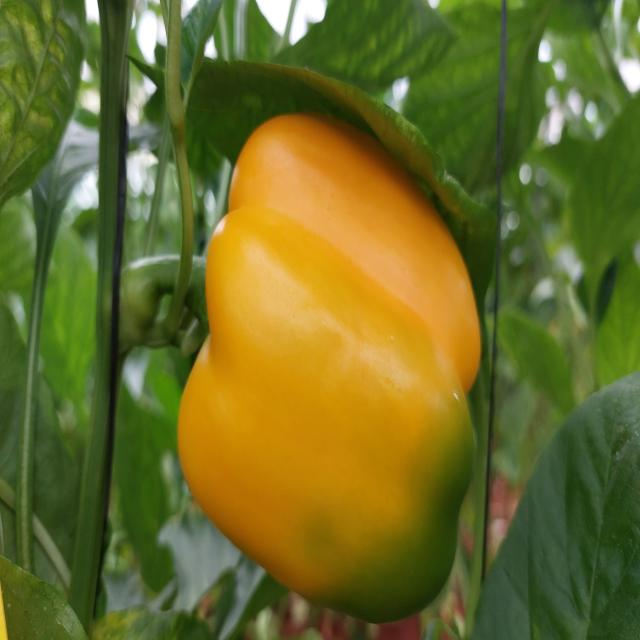Yellow-Ready-to-Harvest: (178, 97, 483, 625)
